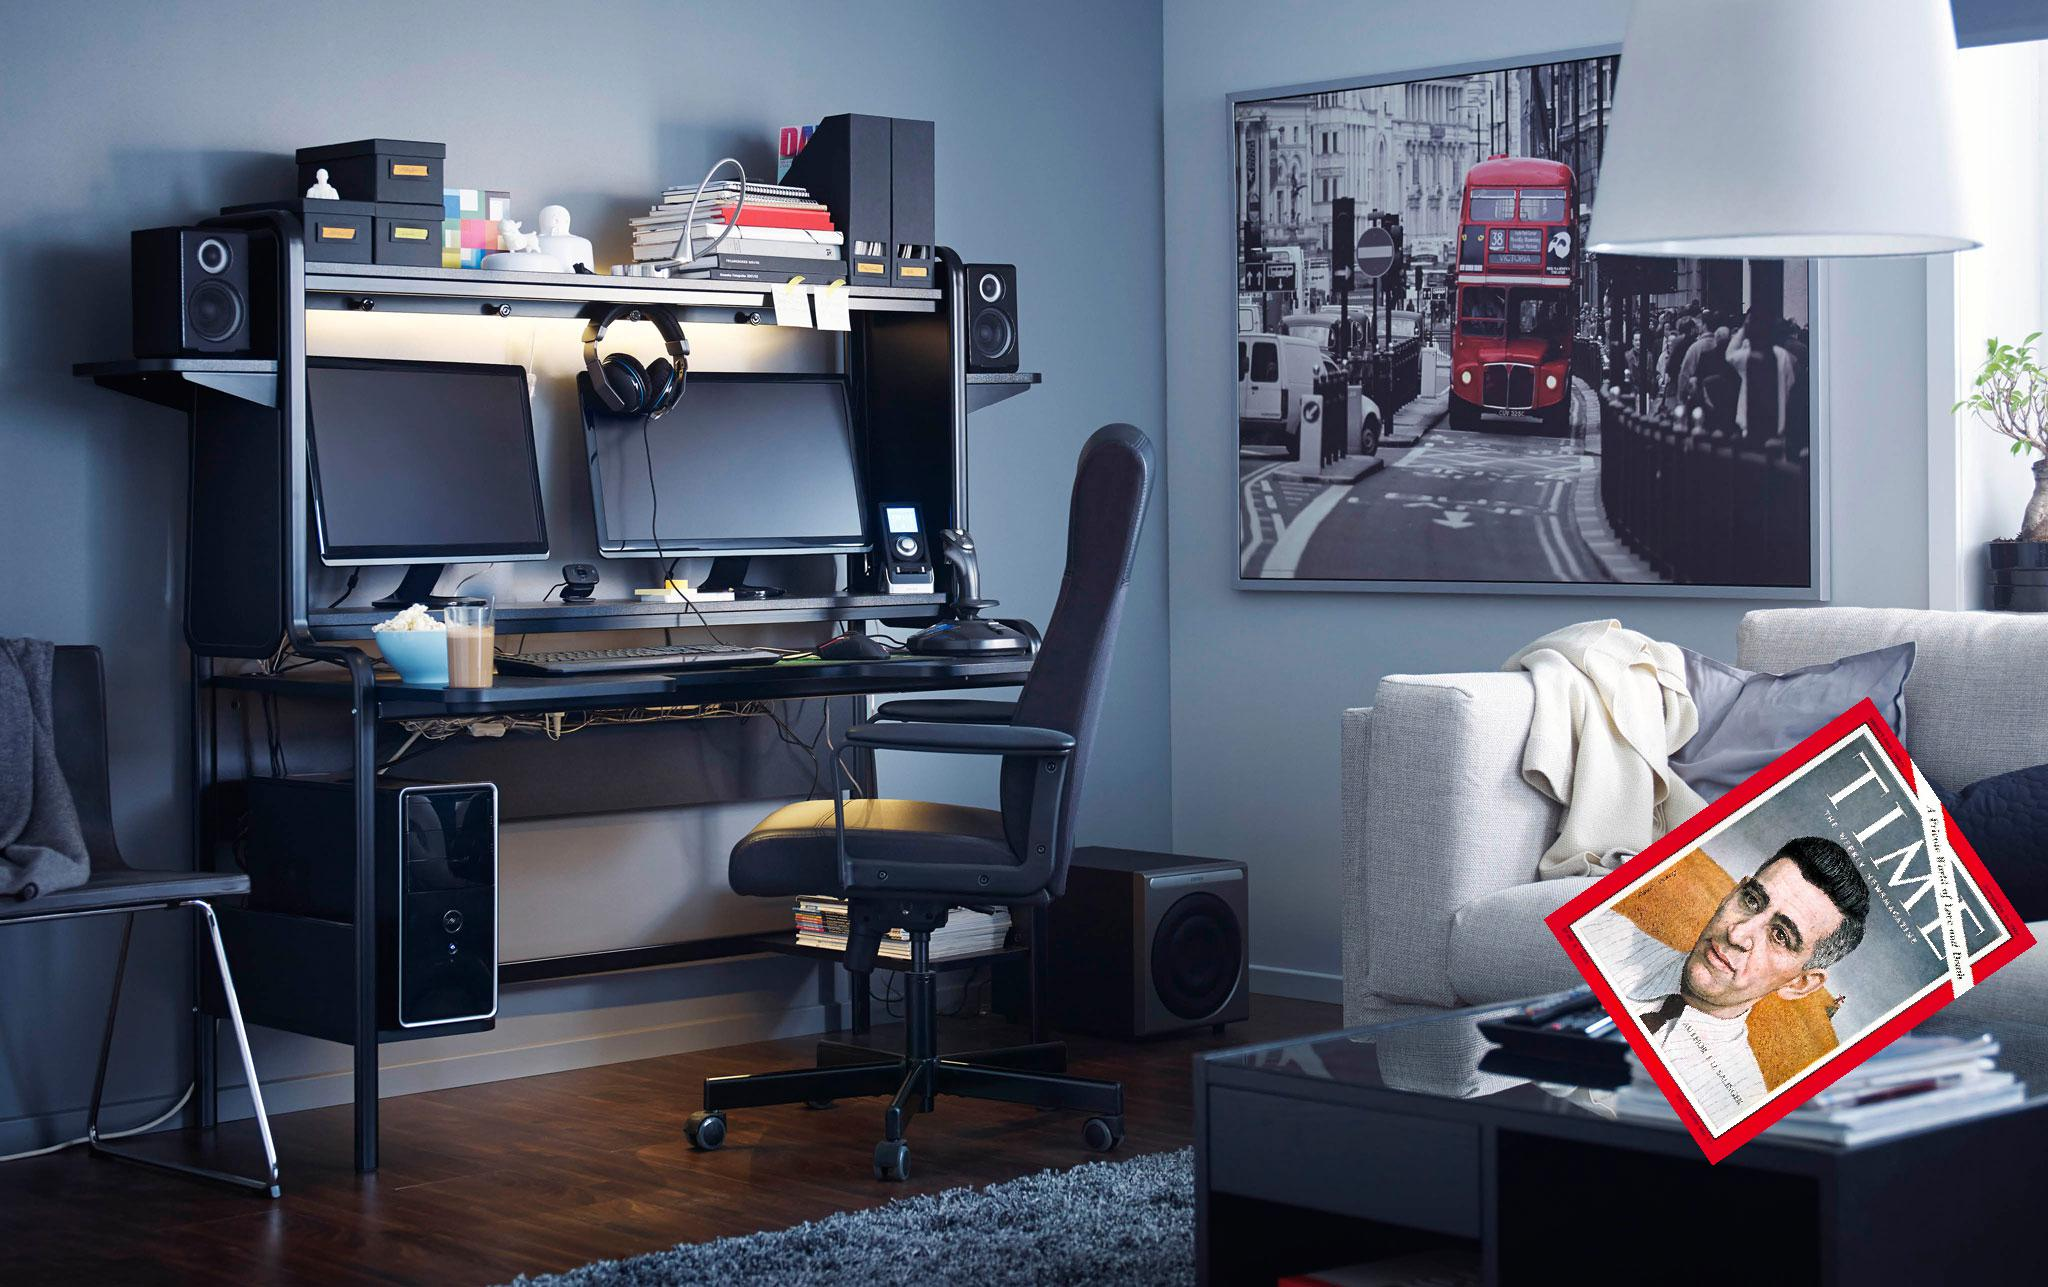times: (1541, 684, 2039, 1161)
